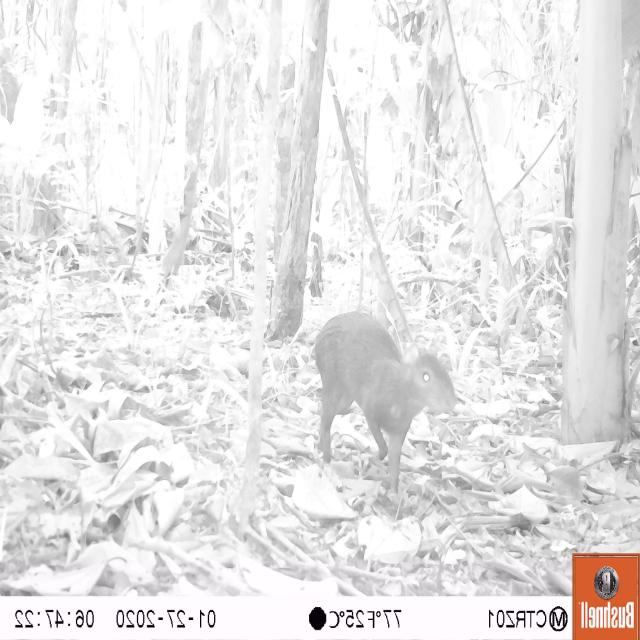Black Agouti: (297, 305, 461, 512)
